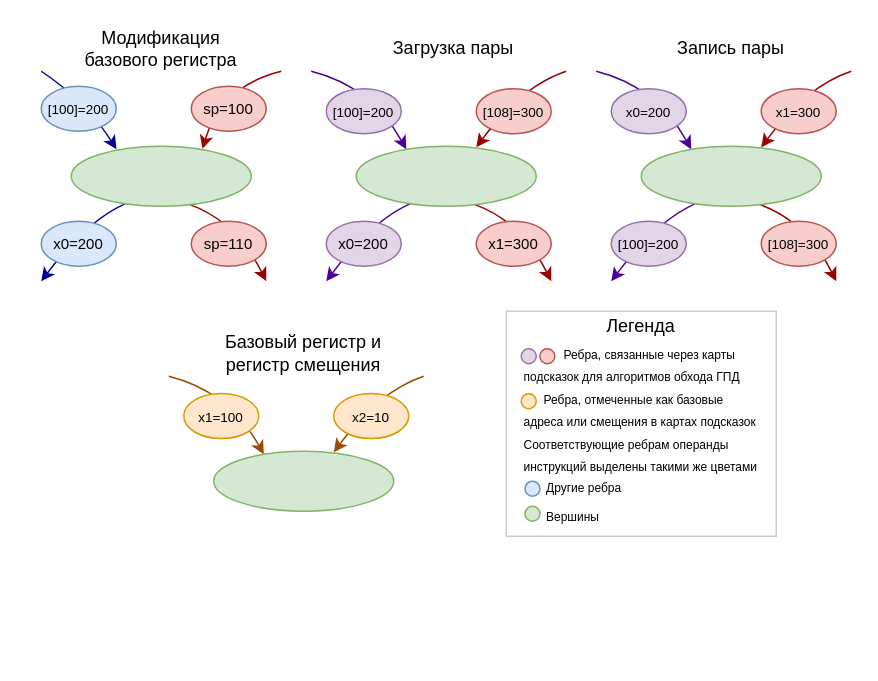
Image size: 878x681. Some labels were removed from this diagram. The box of each missing label's shape, as (x1, y1, x2, y2) in pixels:
ldp x0 , x1 , [sp]: (355, 145, 536, 206)
ldr x0, [ sp ], #10: (70, 145, 251, 206)
ldr x0, [ x1 , x2 ]: (212, 450, 394, 511)
stp x0 , x1 , [sp]: (640, 145, 821, 206)
